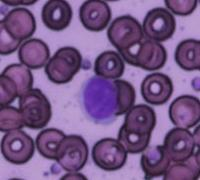L: (77, 75, 118, 125)
